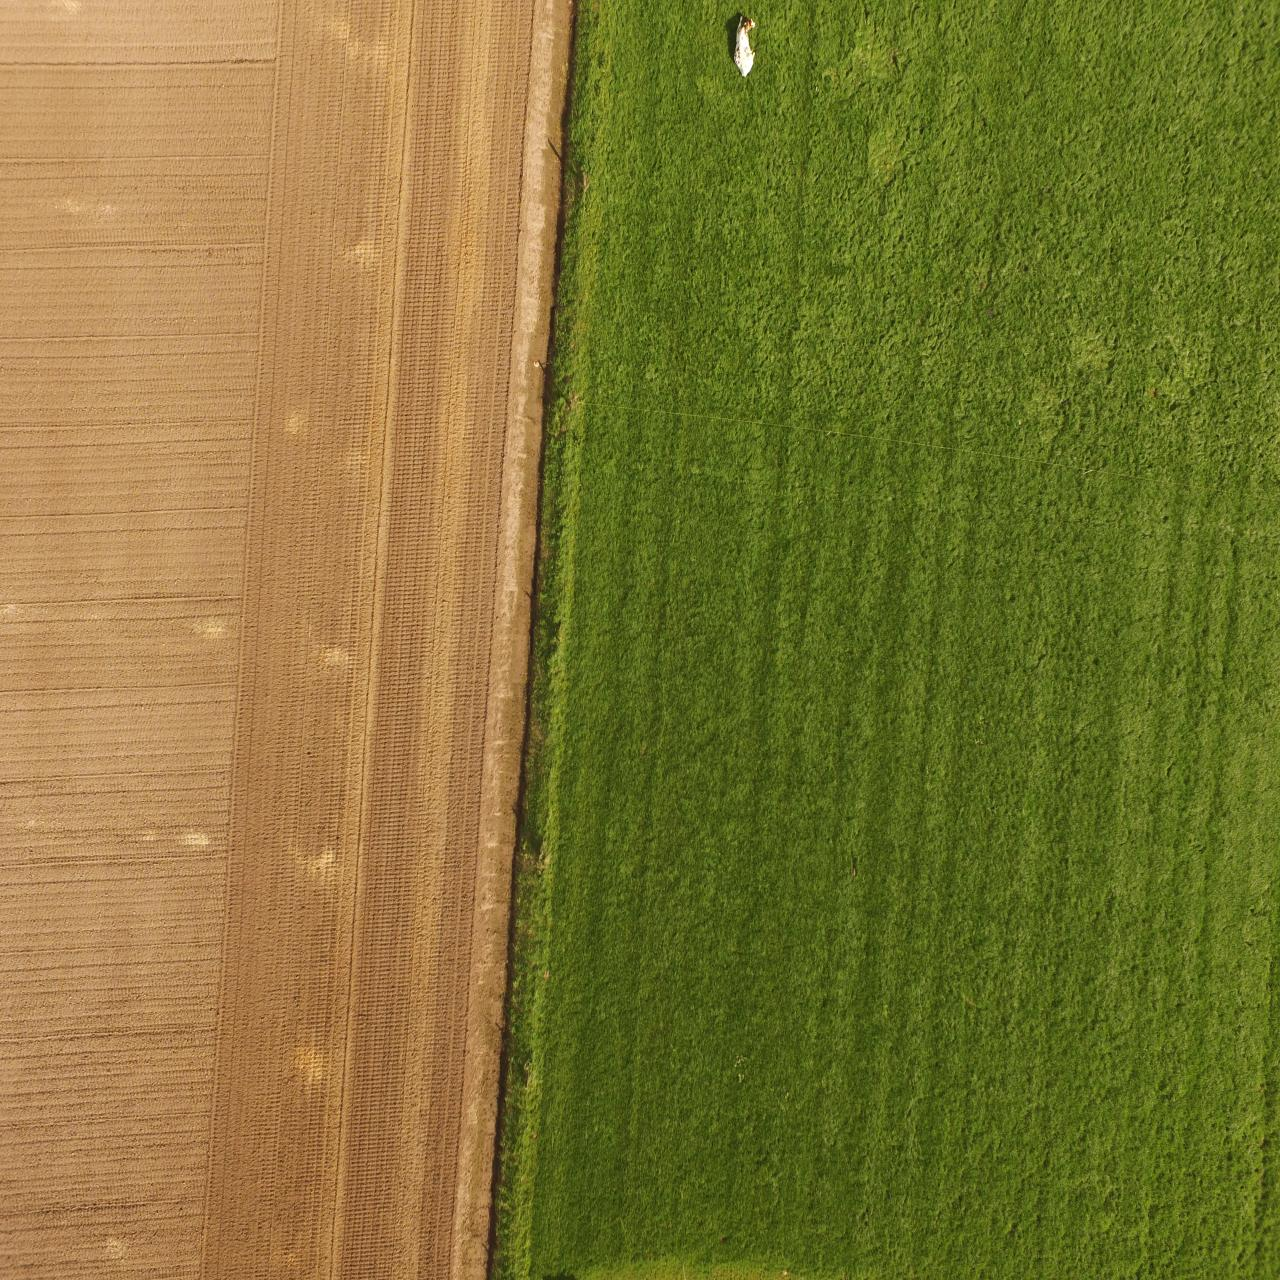cow: (733, 15, 757, 77)
